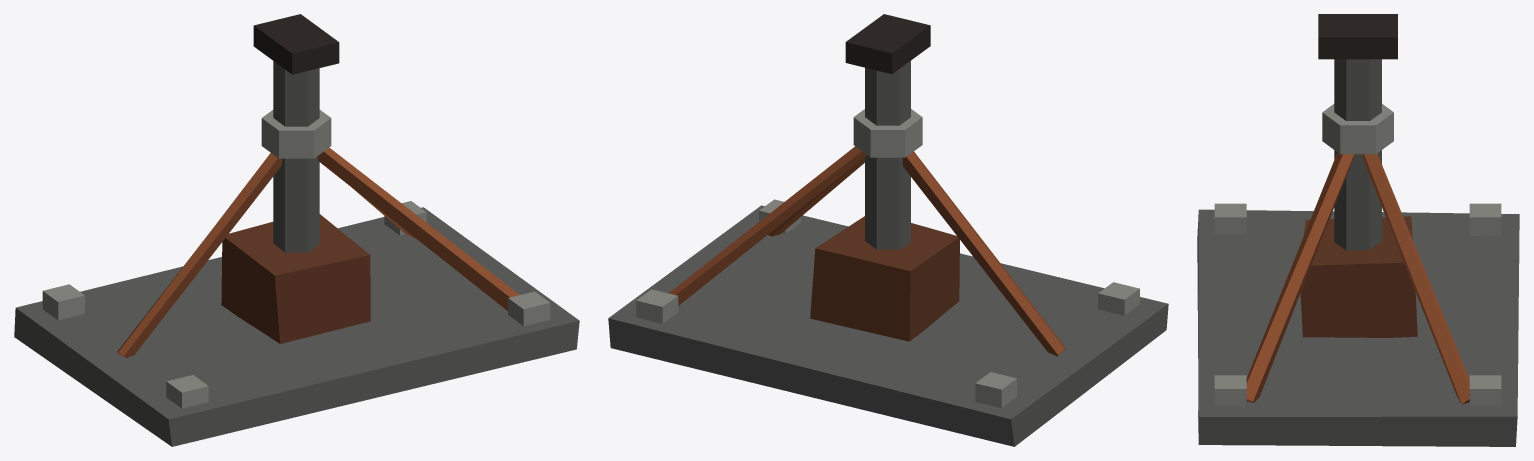
Rendered from wmount_pintle.glb.
3 views of the same model, side by side, from view 1: azimuth 30°, elevation 25°; view 2: azimuth 150°, elevation 25°; view 3: azimuth 270°, elevation 25° (orthographic). The views are drawn at different scales.
Parts seen in each view (by area): view 1: wmount_pintle; view 2: wmount_pintle; view 3: wmount_pintle.
Boxes of the visible parts, left/top/right/bottom form: wmount_pintle: left=14, top=14, right=579, bottom=446; wmount_pintle: left=608, top=14, right=1168, bottom=446; wmount_pintle: left=1197, top=14, right=1519, bottom=446.
Bounding box in the file's own units: 0.6132 × 0.4425 × 0.4049.
